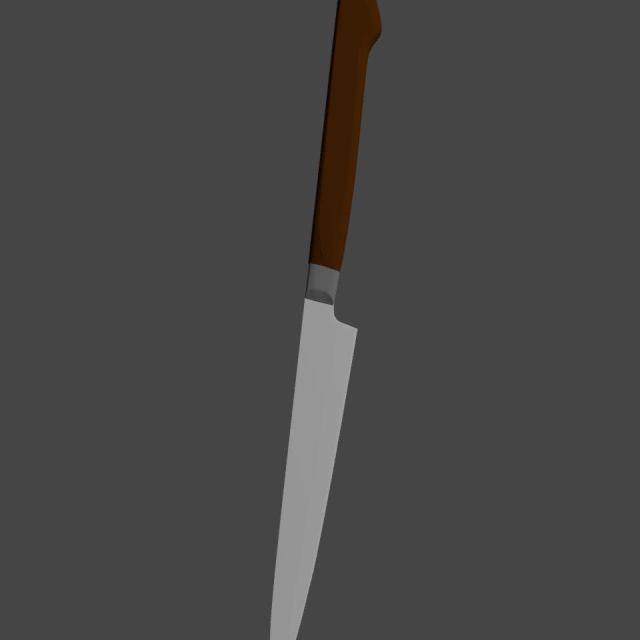knife: (308, 0, 382, 273)
